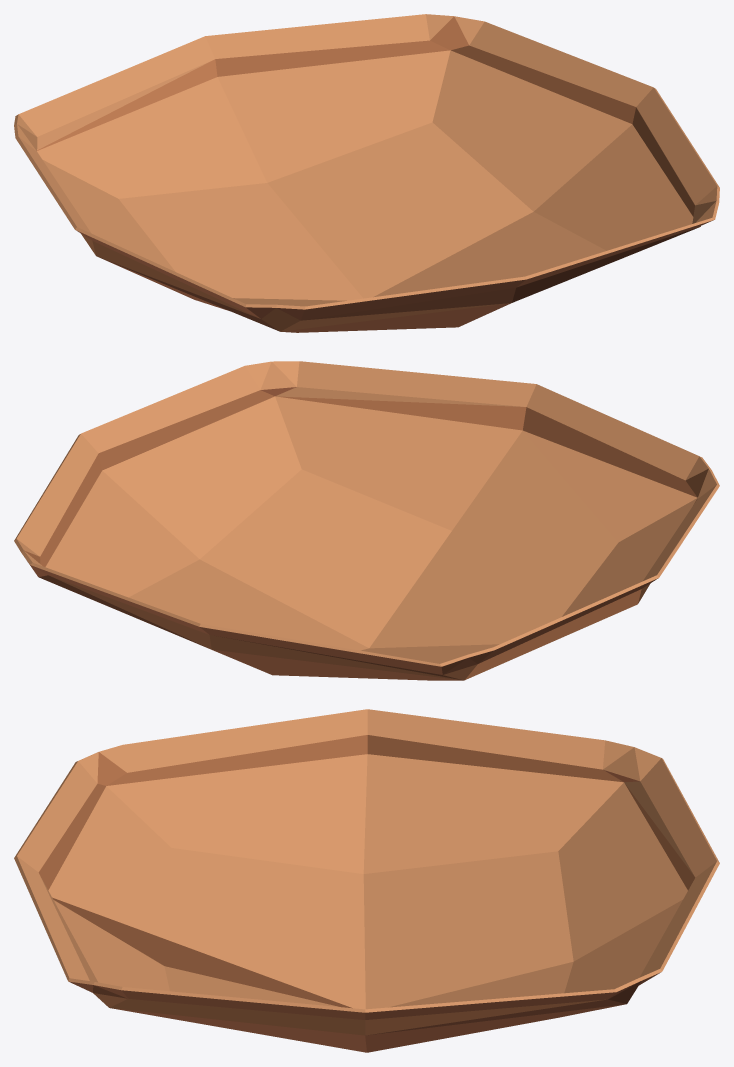
The model's file is FiredBowl.glb.
3 renders of one model, top to bottom at view 1: azimuth 30°, elevation 25°; view 2: azimuth 150°, elevation 25°; view 3: azimuth 270°, elevation 25°, orthographic. The views are drawn at different scales.
Parts seen in each view (by area): view 1: FiredBowl; view 2: FiredBowl; view 3: FiredBowl.
Boxes of the visible parts, box(x1,y1,x2,y2) form: FiredBowl: box(14, 14, 719, 332); FiredBowl: box(14, 361, 719, 680); FiredBowl: box(14, 709, 719, 1052).
Bounding box in the file's own units: 0.2518 × 0.0613 × 0.2482.
